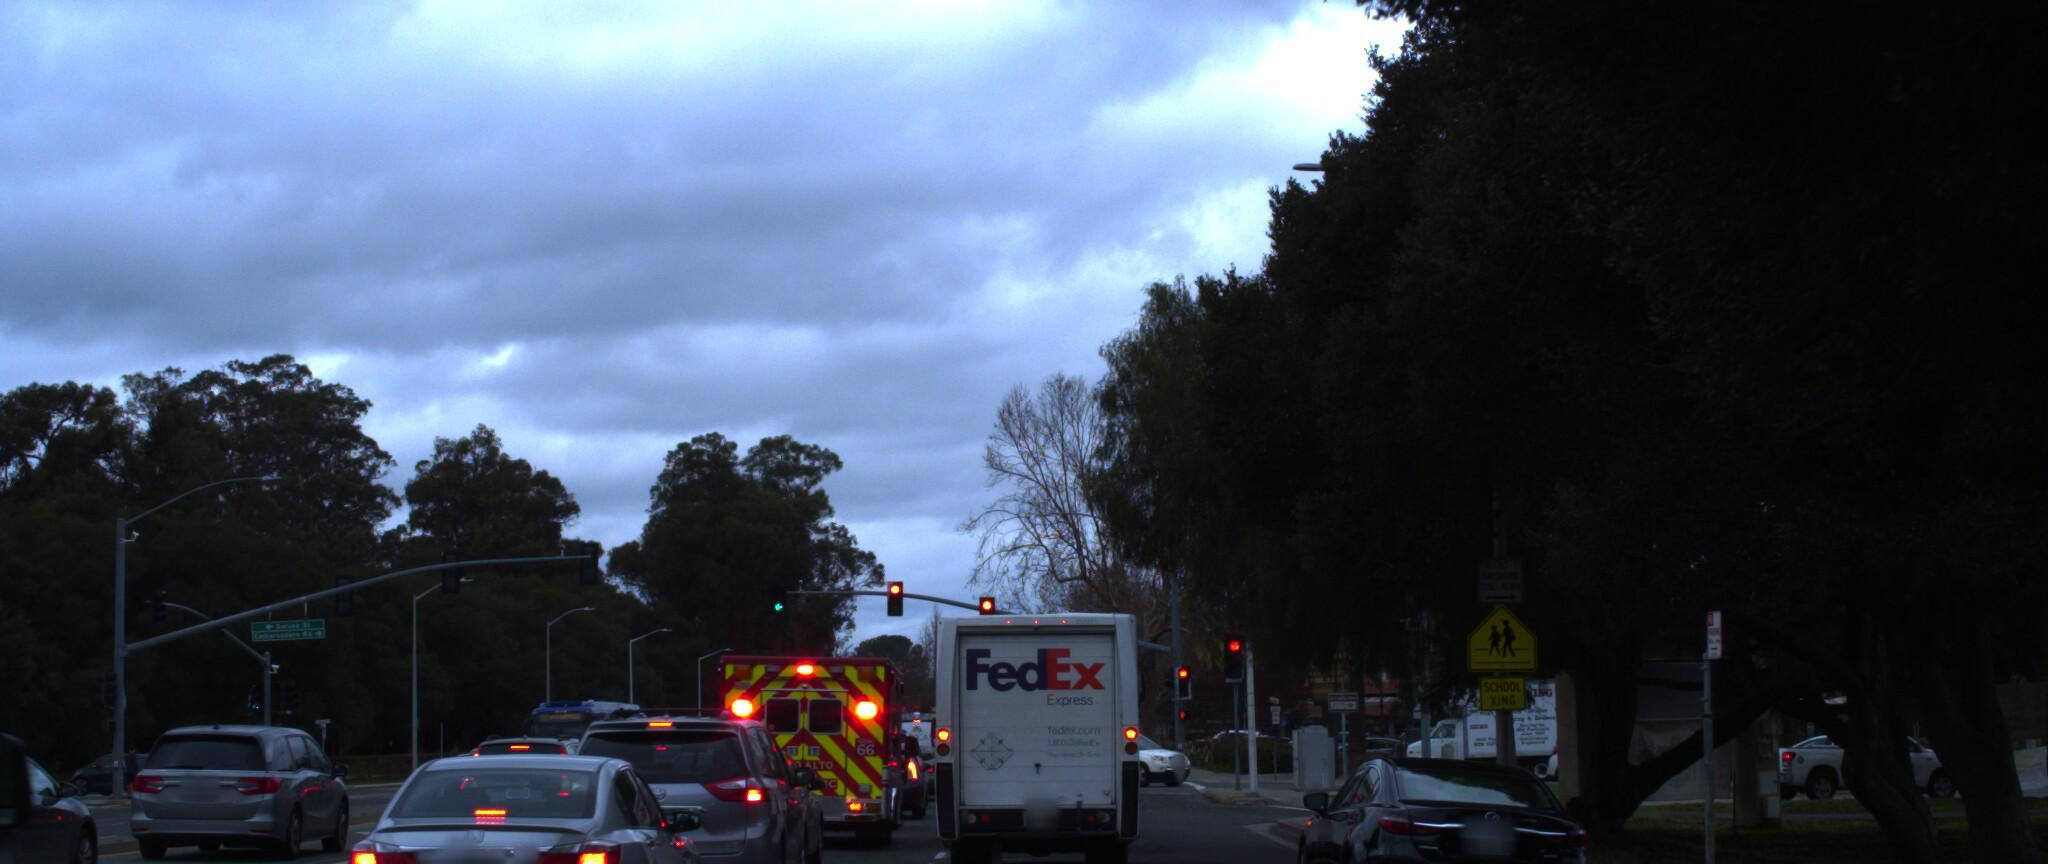car: (317, 730, 733, 864), (552, 696, 822, 864), (1279, 735, 1599, 864), (155, 731, 359, 854), (443, 727, 628, 844), (1755, 713, 1975, 794), (0, 743, 108, 864)
emergency_vehicle: (707, 617, 916, 854)
other_vehicle: (0, 0, 118, 864)
truck: (925, 595, 1149, 864)
